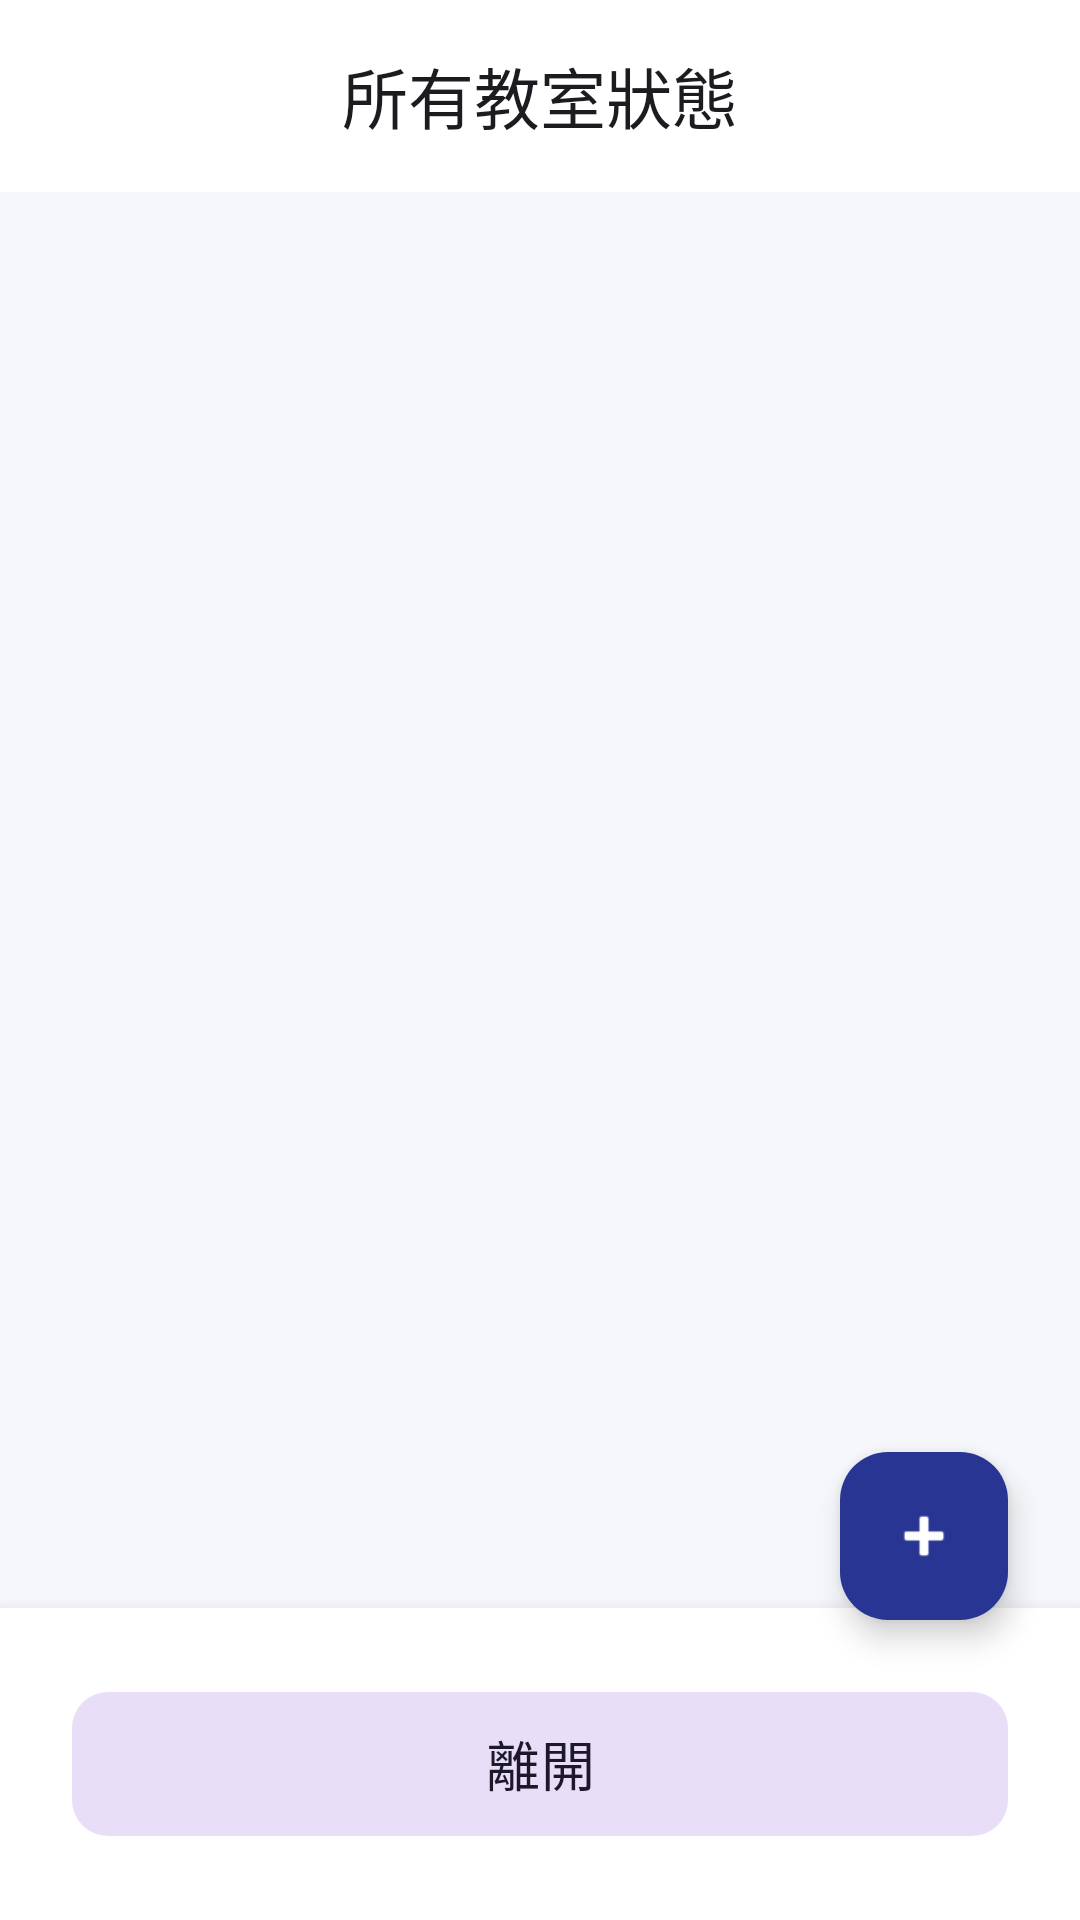

Screen size 1080×1920. Icon name, then its box in pixels as (x1, y1, x2, y2):
新增教室: (840, 1452, 1008, 1620)
